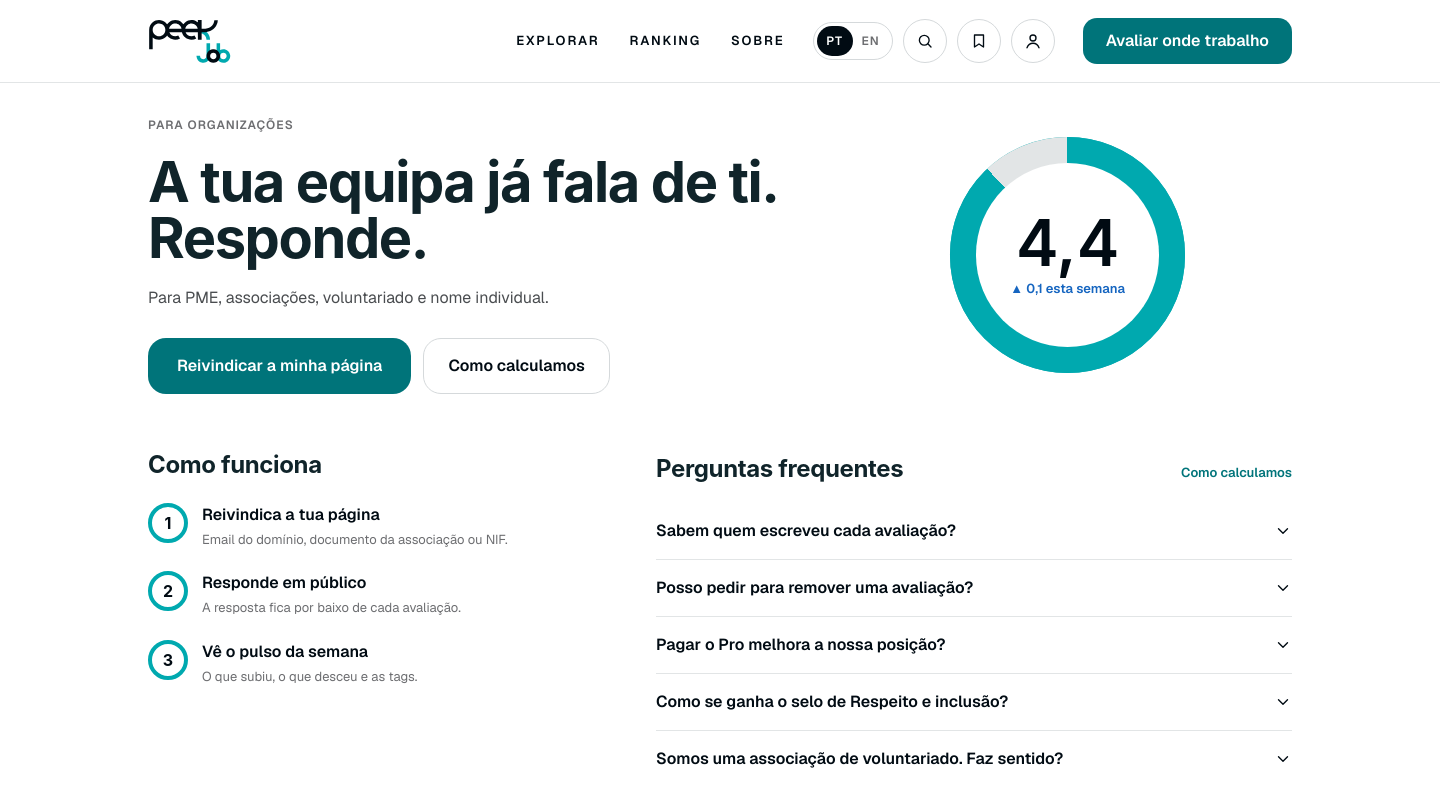
Test case: Para organizações (desktop) › perguntas frequentes: abrir uma mostra a resposta
What coordinates should you click on to do the following:
click the button "Pagar o Pro melhora a nossa posição?"
I would click on:
 (801, 644)
Its box is [656,617,1292,673].
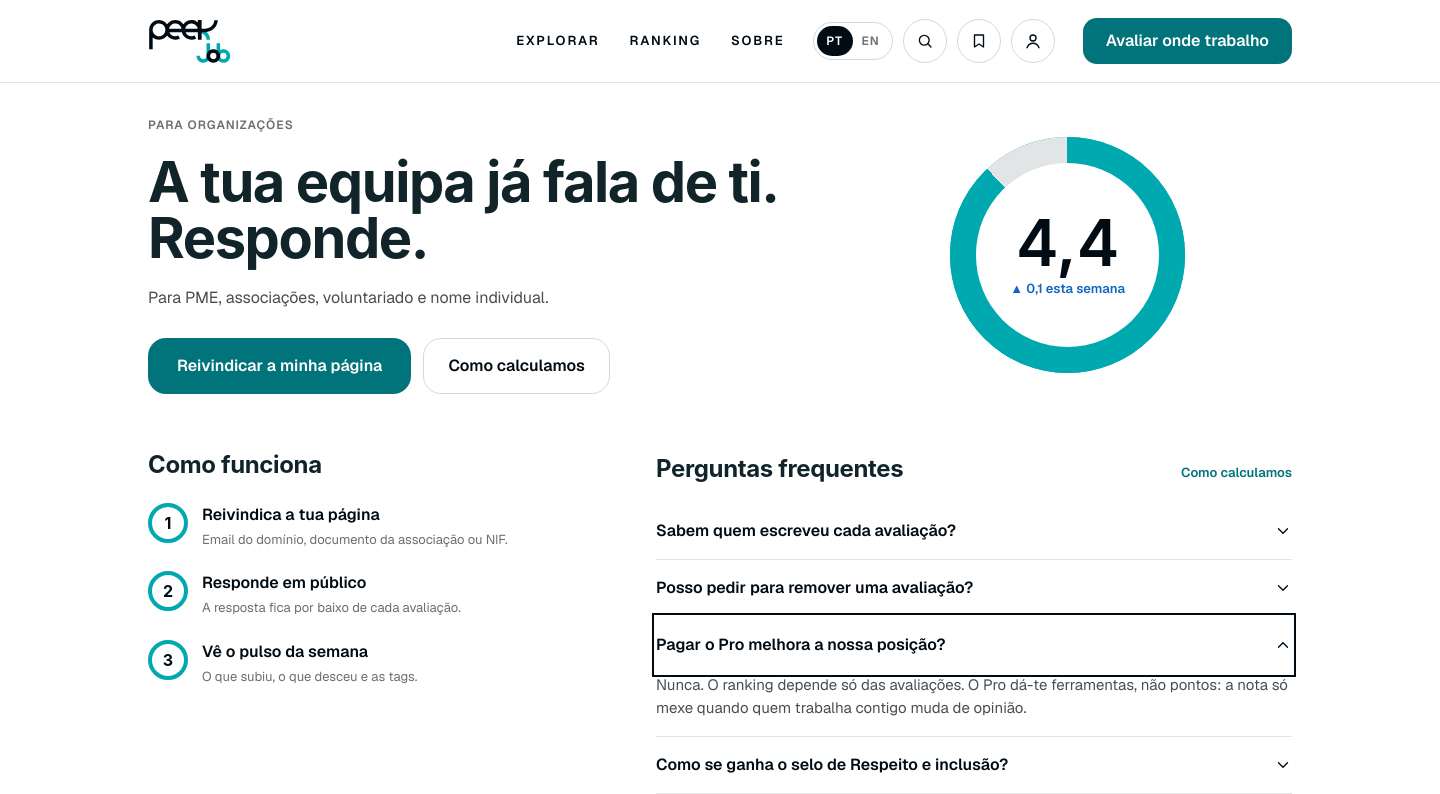
Check: the button "Pagar o Pro melhora a nossa posição?" is expanded, box [656,617,1292,673]
Check: the text "Nunca. O ranking depende só das avaliações" is shown, box [656,675,1288,717]
